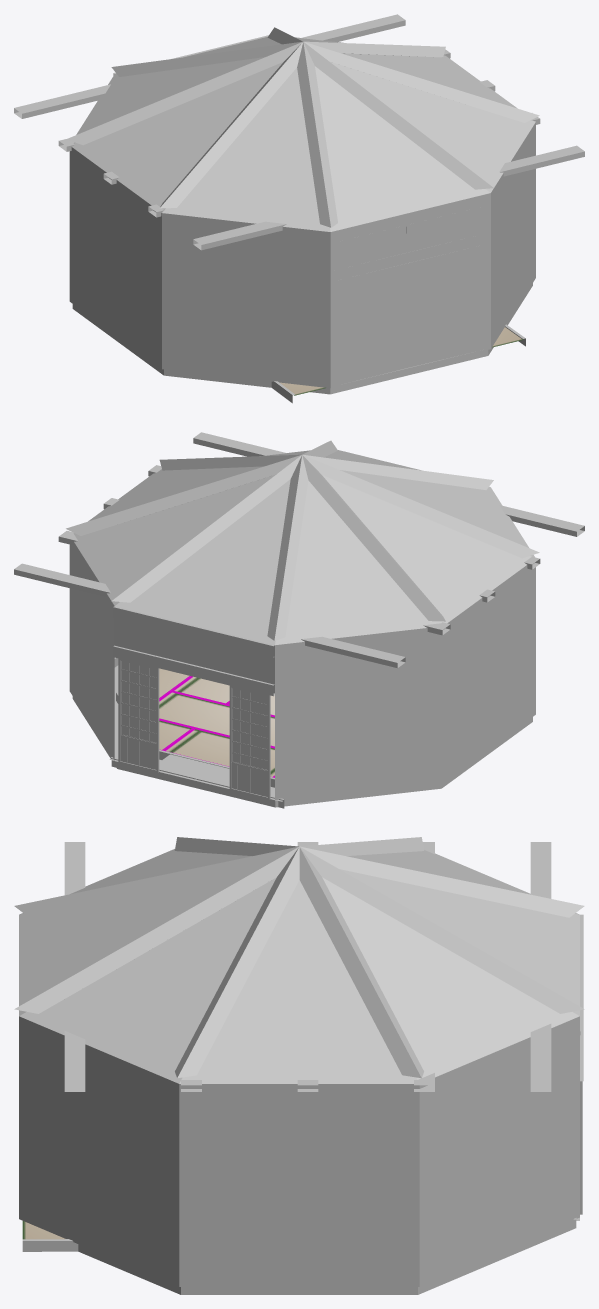
The model's file is SM_Building.fbx.
3 views of the same model, one above another, from view 1: azimuth 30°, elevation 25°; view 2: azimuth 150°, elevation 25°; view 3: azimuth 270°, elevation 25° (orthographic). The views are drawn at different scales.
Parts seen in each view (by area): view 1: Circle.005, Circle.007, Cube.041, Circle.004, Circle.003; view 2: Circle.005, Circle.007, Circle.003, Cube.041, Cube.060, Circle.001, Circle.004, Cube.063, Circle.006, Circle.008, Door.002, Cube.061 (+2 smaller); view 3: Circle.005, Circle.007, Cube.041, Circle.004.
Boxes of the visible parts, left/top/right/bottom form: Circle.005: left=69, top=37, right=535, bottom=388; Circle.007: left=66, top=27, right=539, bottom=227; Cube.041: left=14, top=14, right=584, bottom=250; Circle.004: left=72, top=277, right=535, bottom=403; Circle.003: left=280, top=327, right=523, bottom=395; Circle.005: left=69, top=450, right=535, bottom=801; Circle.007: left=66, top=440, right=539, bottom=640; Circle.003: left=159, top=668, right=274, bottom=776; Cube.041: left=14, top=432, right=584, bottom=668; Cube.060: left=121, top=661, right=267, bottom=769; Circle.001: left=114, top=619, right=274, bottom=690; Circle.004: left=72, top=657, right=535, bottom=807; Cube.063: left=120, top=660, right=267, bottom=770; Circle.006: left=113, top=606, right=274, bottom=657; Circle.008: left=113, top=645, right=274, bottom=696; Door.002: left=118, top=658, right=270, bottom=799; Cube.061: left=120, top=736, right=267, bottom=796; Circle.005: left=19, top=849, right=580, bottom=1286; Circle.007: left=14, top=837, right=584, bottom=1078; Cube.041: left=64, top=842, right=551, bottom=1091; Circle.004: left=22, top=1219, right=576, bottom=1294.
Bounding box in the file's own units: 830 × 528 × 824.
